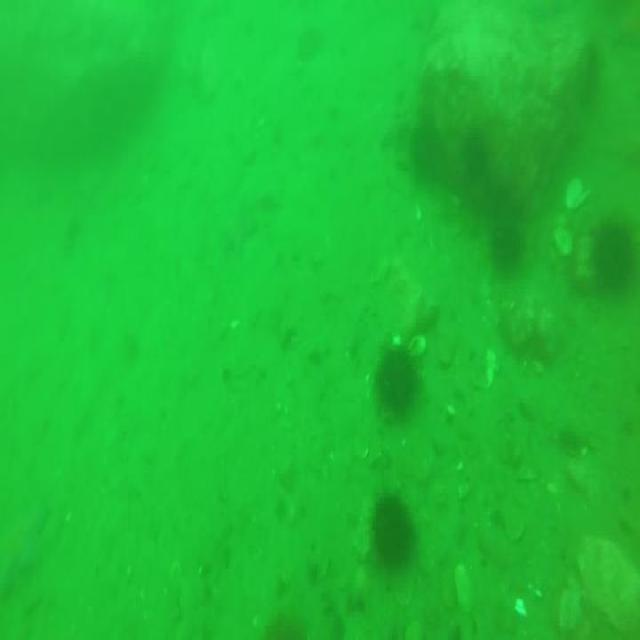echinus: (455, 130, 504, 208), (590, 216, 630, 306), (376, 342, 417, 412), (376, 498, 413, 574), (489, 205, 528, 275), (406, 122, 436, 183)
scallop: (565, 176, 595, 210), (552, 224, 573, 254), (410, 332, 426, 354)
starfish: (14, 503, 50, 572), (218, 199, 257, 251)
